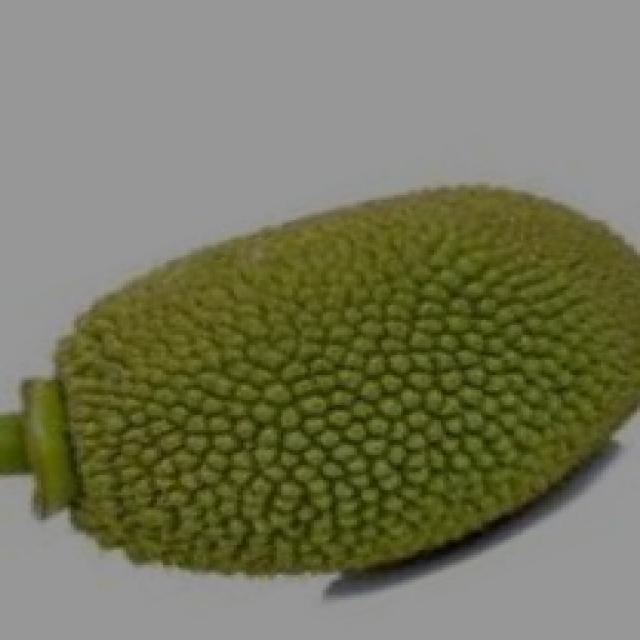Fruit: (16, 198, 450, 632), (249, 162, 640, 612)
